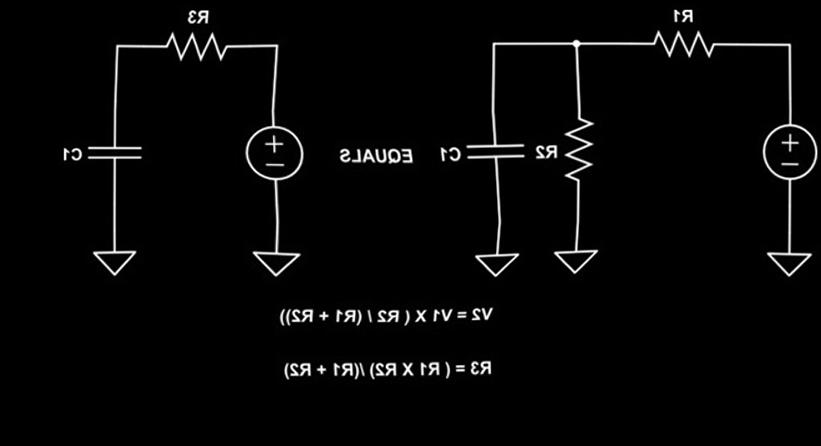Battery: (219, 110, 322, 192), (742, 105, 820, 190)
